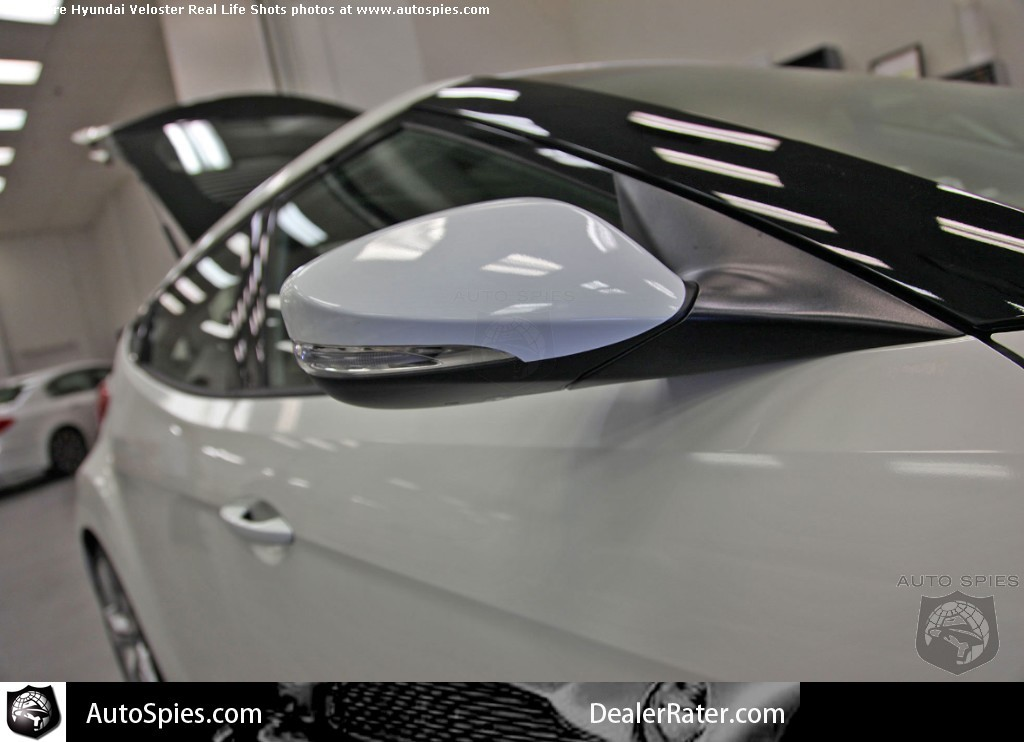Car: (65, 84, 1022, 681), (0, 358, 115, 496)
